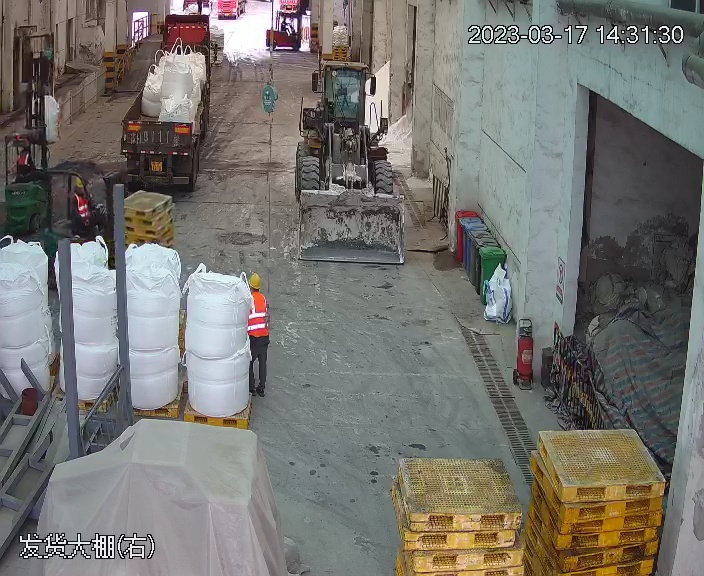head: (246, 272, 269, 311)
helmet: (247, 272, 262, 289)
people: (244, 269, 272, 397)
truck: (117, 7, 215, 203)
